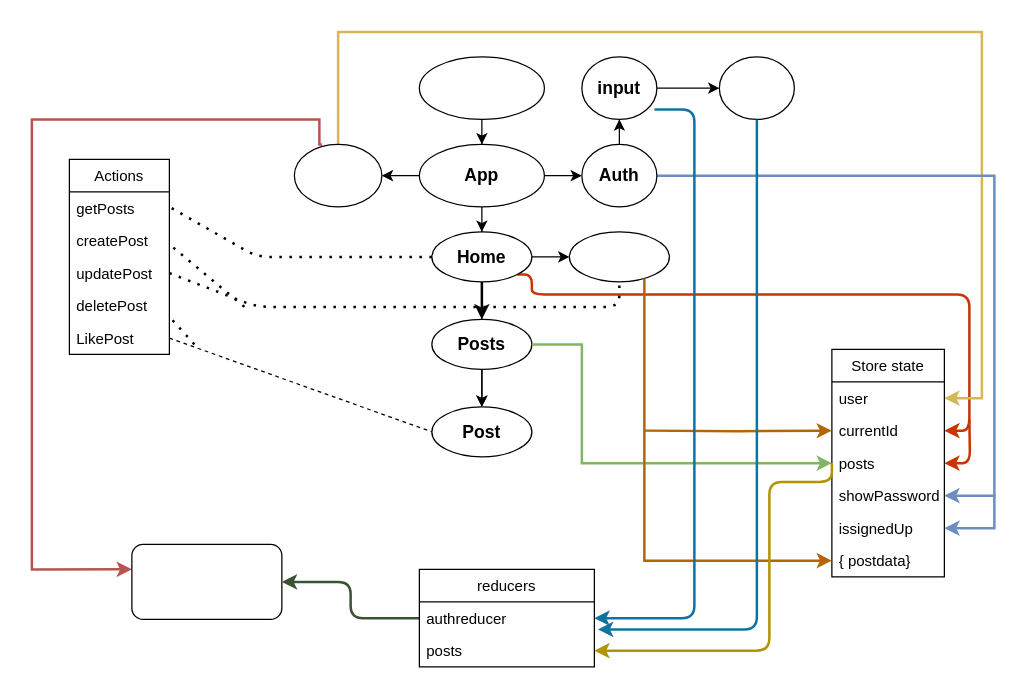
Some shapes in this 1026 by 691 pixel diagram are drawn without their labels. The centre of each missing label's shape, as x and y in pixels:
"Form" belongs at pixel 618 256.
"google Login" belongs at pixel 756 87.
"Index Store" belongs at pixel 481 87.
"Local Storage" belongs at pixel 206 581.
"navbar" belongs at pixel 337 175.
